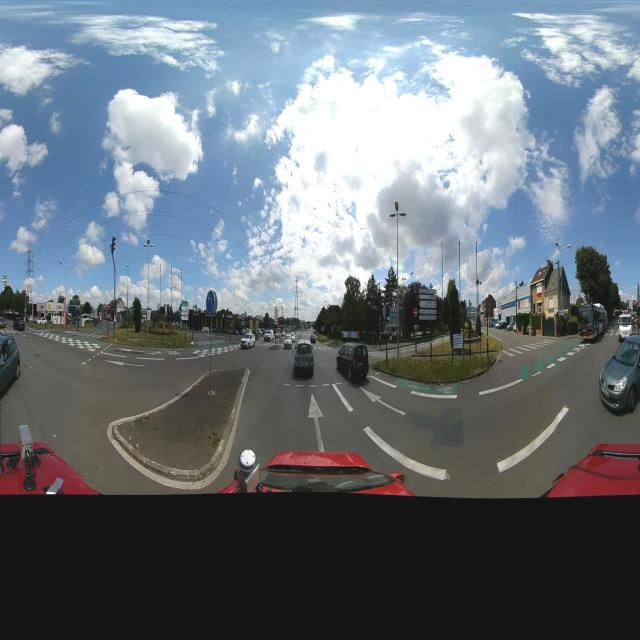car: (599, 345, 639, 414), (0, 300, 21, 430), (336, 342, 370, 384), (292, 341, 315, 378), (617, 312, 633, 342), (240, 331, 255, 348), (14, 316, 26, 332), (263, 328, 273, 342), (283, 335, 292, 350), (310, 332, 316, 344)
